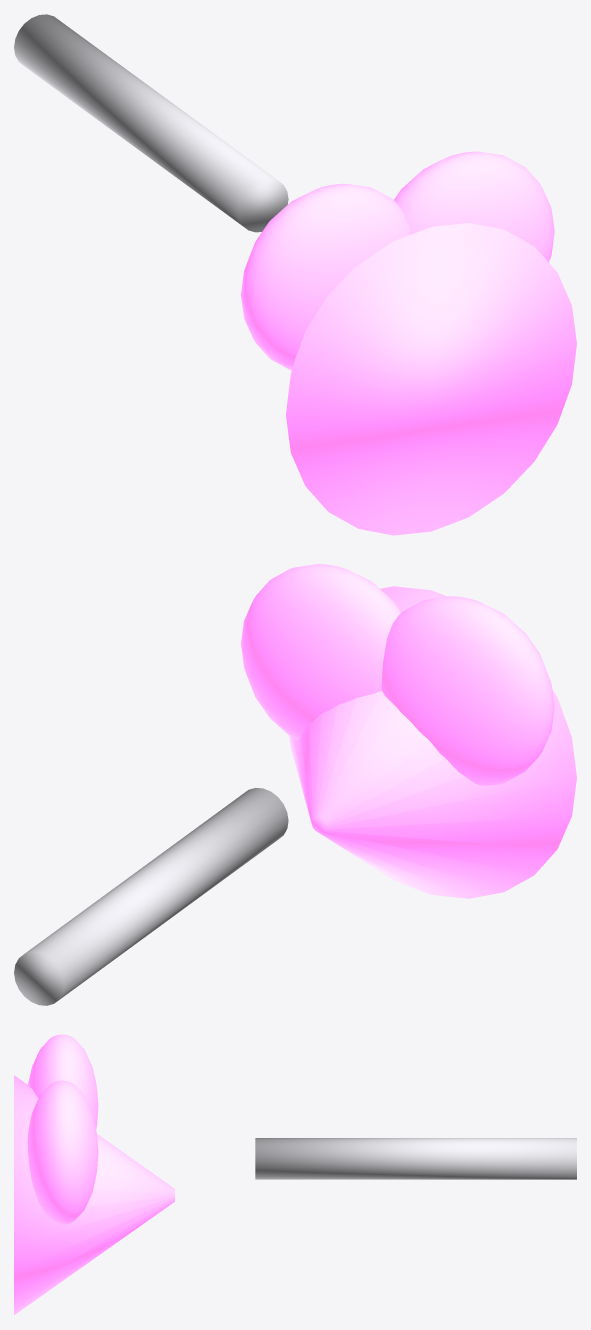
Rendered from heart_lightstick.glb.
3 views of the same model, one above another, from view 1: azimuth 30°, elevation 25°; view 2: azimuth 150°, elevation 25°; view 3: azimuth 270°, elevation 25° (orthographic). The views are drawn at different scales.
Parts seen in each view (by area): view 1: heart_lightstick; view 2: heart_lightstick; view 3: heart_lightstick.
Part boxes in pixels (<box>): heart_lightstick: <box>14,14,576,535</box>; heart_lightstick: <box>14,564,576,1005</box>; heart_lightstick: <box>14,1034,576,1314</box>.
Bounding box in the file's own units: 0.158 × 0.165 × 0.35.
